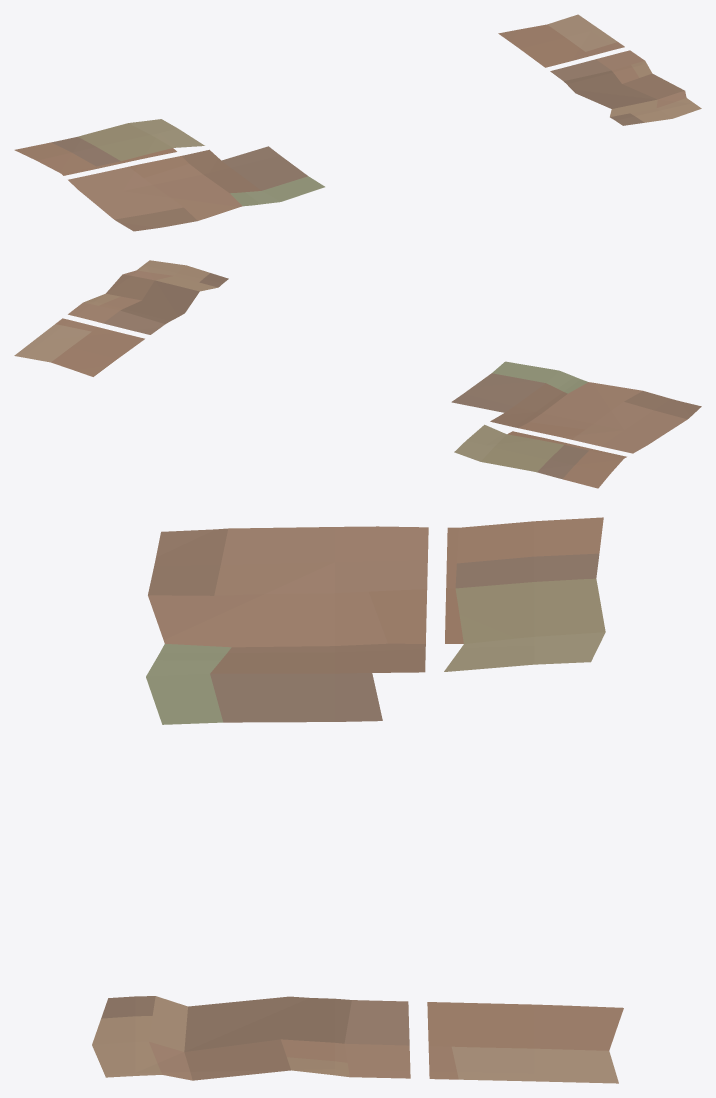
Rendered from farm_19_14_soil.glb.
3 renders of one model, top to bottom at view 1: azimuth 30°, elevation 25°; view 2: azimuth 150°, elevation 25°; view 3: azimuth 270°, elevation 25°, orthographic. The views are drawn at different scales.
Visible parts, largest first — view 1: geometry_0; view 2: geometry_0; view 3: geometry_0.
Part boxes in pixels (box(x1,y1,x2,y2)): geometry_0: box(14, 14, 701, 231); geometry_0: box(14, 260, 701, 488); geometry_0: box(92, 517, 623, 1083).
Bounding box in the file's own units: 526 × 6.36 × 213.
